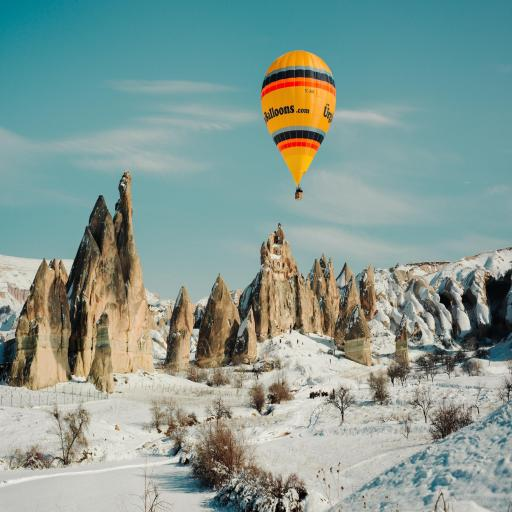hot air ballon: (258, 50, 338, 202)
